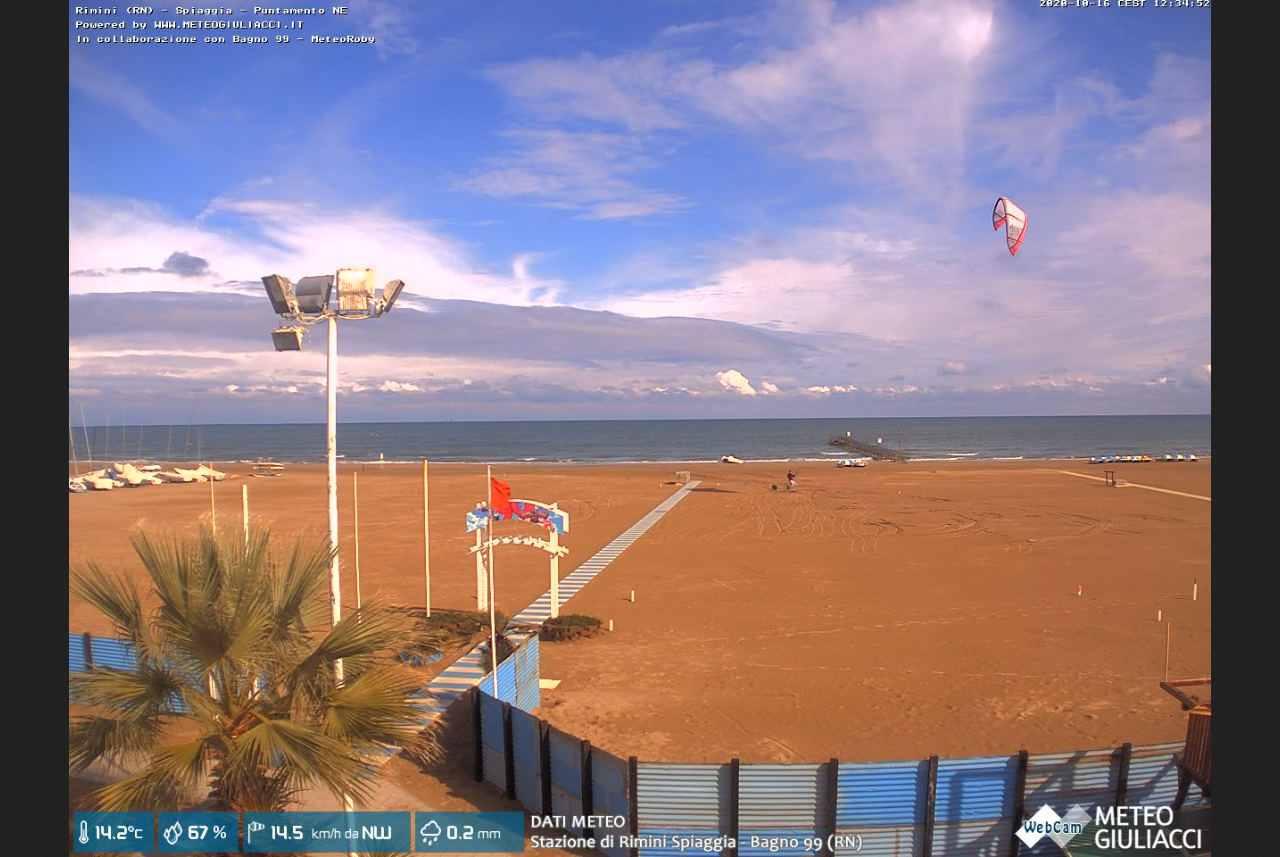yes: (487, 474, 513, 523)
